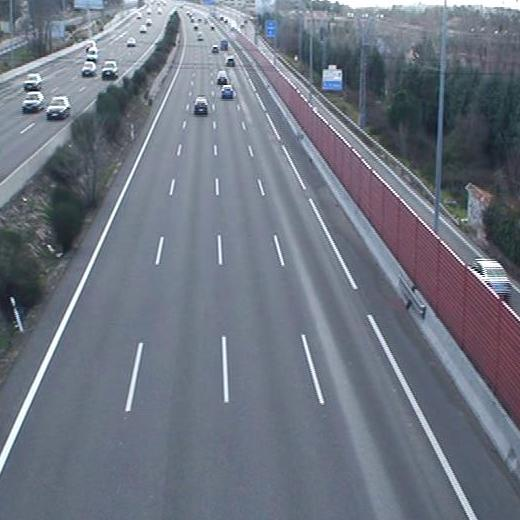car: (192, 96, 208, 115), (219, 83, 235, 100), (217, 70, 228, 86)
